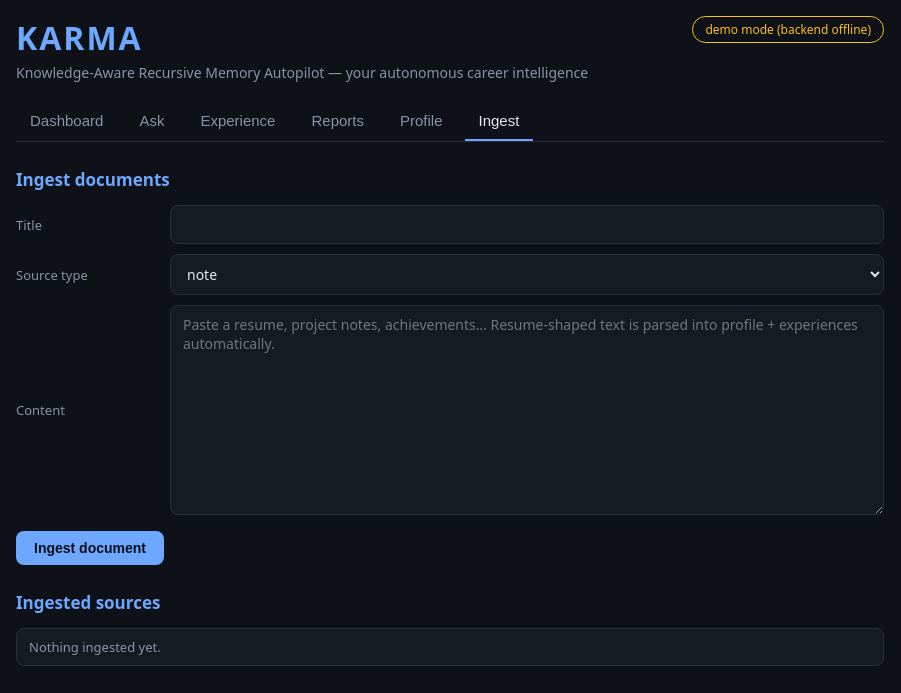
Test: Ingest tab (documents) › deletes a document and reports removed chunks
Click the button with test id "tab-Ingest" at x=499, y=122, box [464, 102, 533, 141]
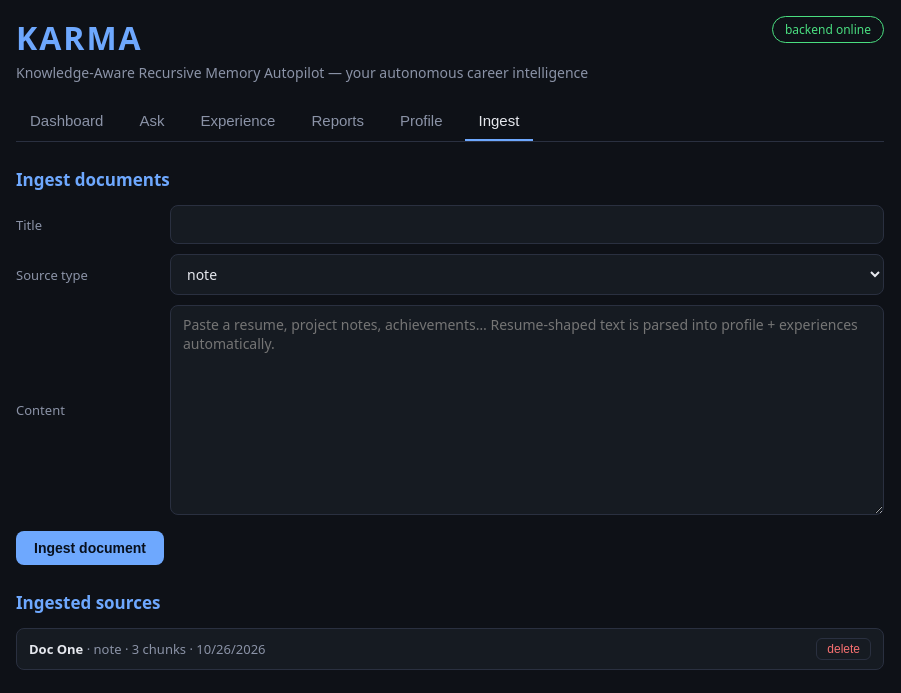
Expected: the button with test id "doc-delete-doc1" is shown
Click the button with test id "doc-delete-doc1" at x=844, y=649, box [816, 638, 871, 660]
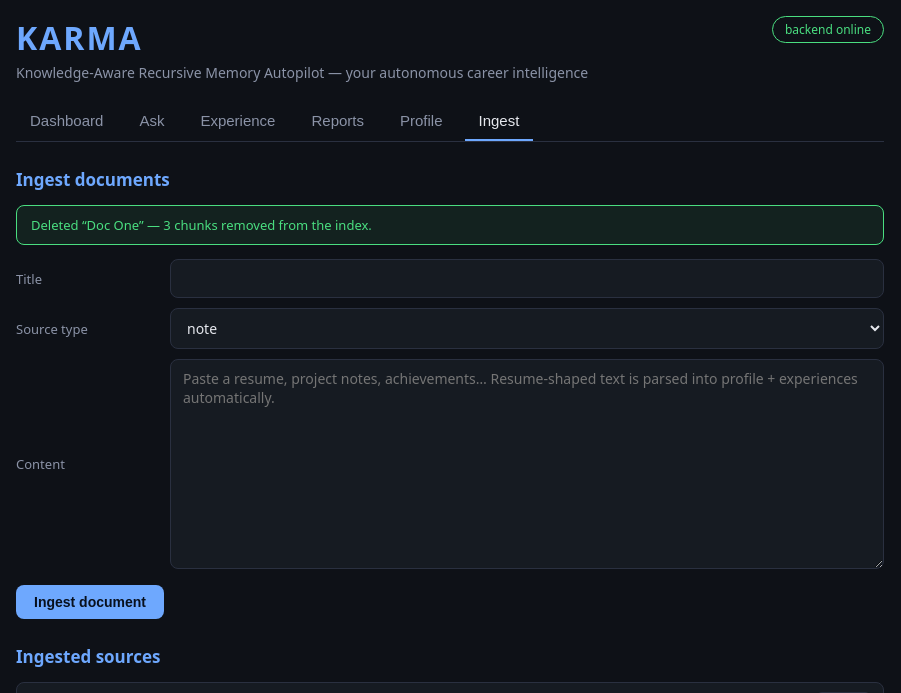
Expected: the text with test id "ingest-notice" shows "Deleted “Doc One”", [31, 216, 372, 234]
